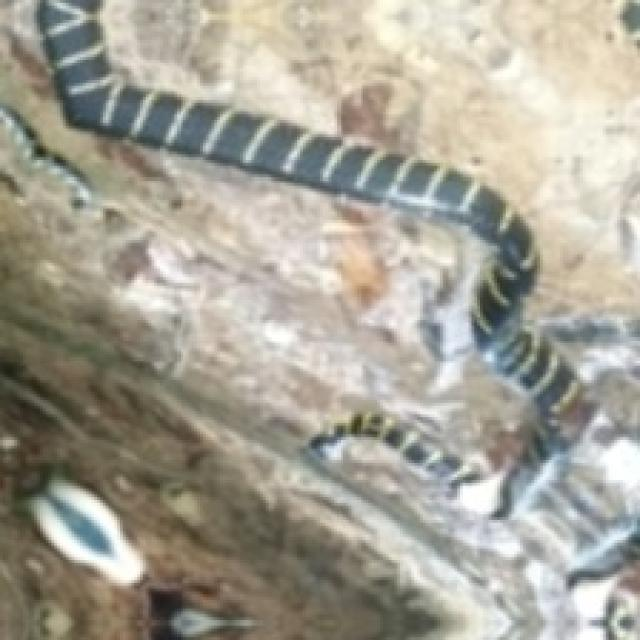mangrove cat snake: (39, 0, 581, 514)
